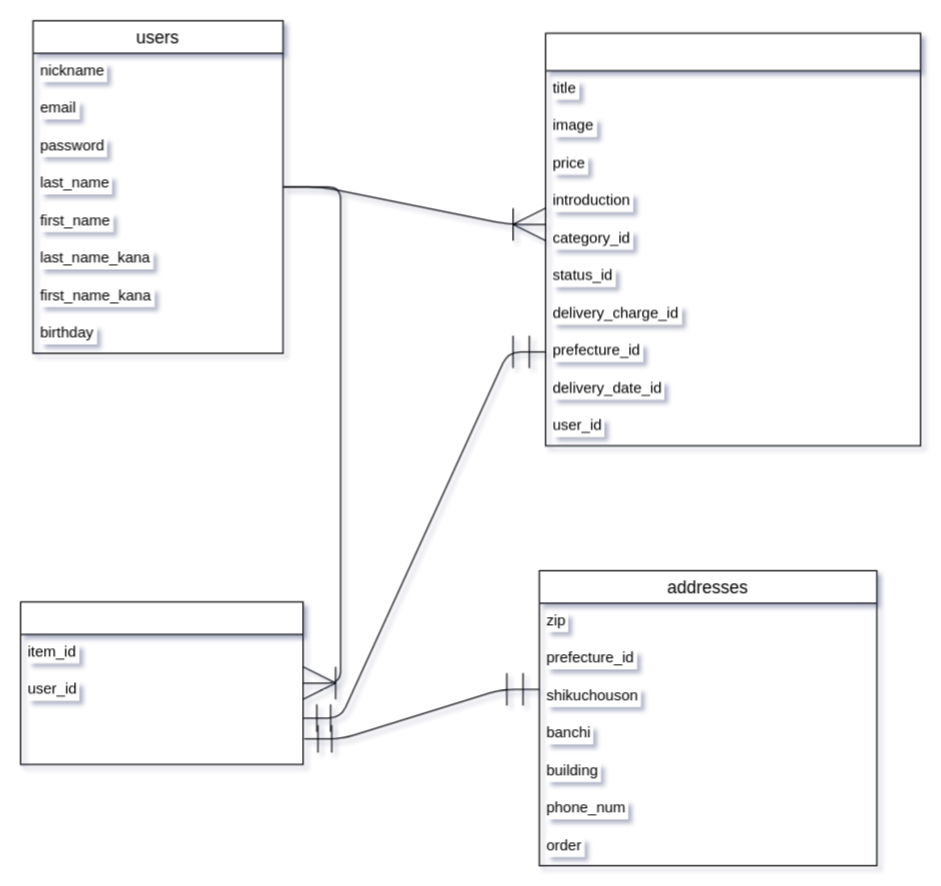
Some shapes in this 941 by 886 pixel diagram are drawn without their labels. Here are the shapes that lost their labels. From the top down, the box of each, then its label:
(544, 32, 921, 446): items
(19, 601, 303, 764): orders
